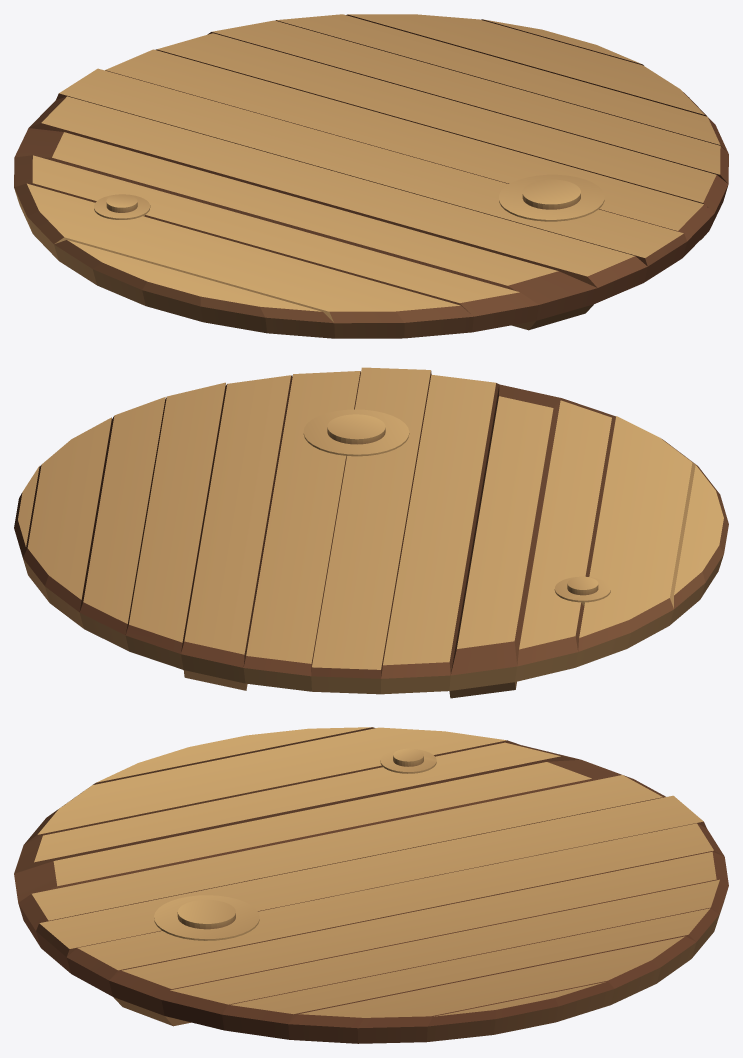
File: Large Light Barrel Lid.fbx
The picture shows the model from 3 angles, top to bottom: view 1: azimuth 30°, elevation 25°; view 2: azimuth 150°, elevation 25°; view 3: azimuth 270°, elevation 25°; orthographic projection.
Parts seen in each view (by area): view 1: Large Light Barrel Lid; view 2: Large Light Barrel Lid; view 3: Large Light Barrel Lid.
Part boxes in pixels (x1=…): Large Light Barrel Lid: x1=14, y1=14, x2=728, y2=338; Large Light Barrel Lid: x1=14, y1=367, x2=728, y2=698; Large Light Barrel Lid: x1=14, y1=727, x2=728, y2=1043.
Bounding box in the file's own units: 22.75 × 310 × 310.
1 material, 1 textured.
